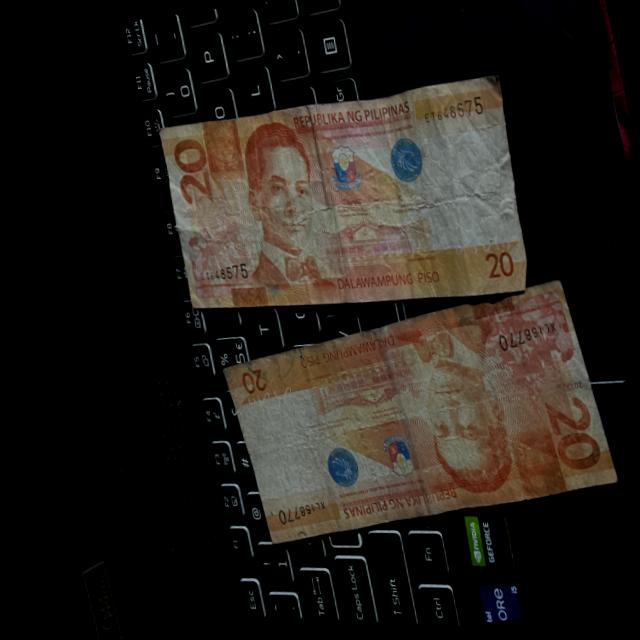concealed_value: (503, 423, 561, 495), (196, 117, 244, 176)
serial_number: (411, 90, 493, 136), (485, 317, 561, 358), (182, 258, 251, 295), (261, 493, 320, 525)
value: (530, 381, 602, 485), (165, 139, 216, 211)
watermark: (413, 115, 516, 239), (233, 396, 326, 515)
